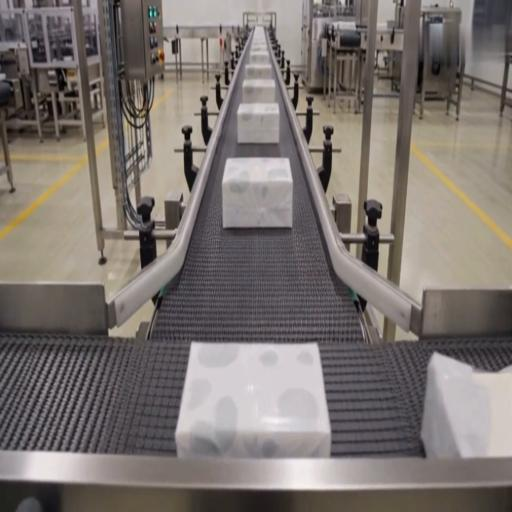defective: (177, 340, 328, 460), (422, 353, 510, 461)
good: (222, 156, 294, 230), (236, 102, 281, 145), (239, 78, 277, 106), (244, 61, 273, 82), (248, 30, 270, 52), (247, 47, 270, 63)
